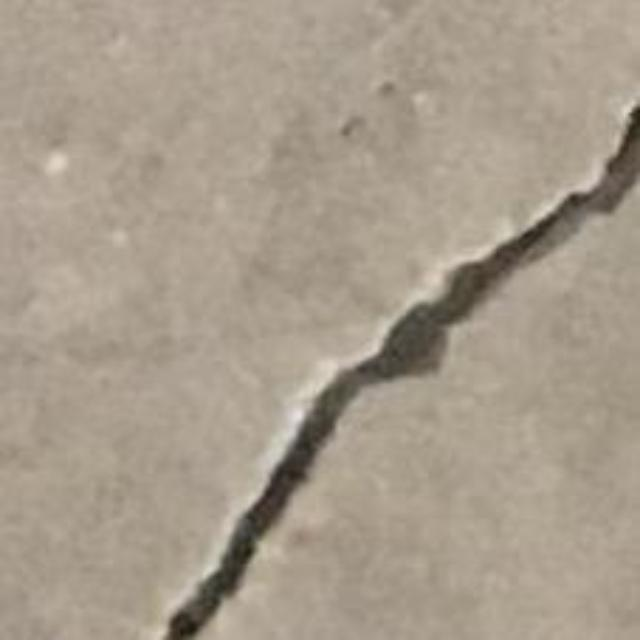crack: (164, 105, 639, 639)
